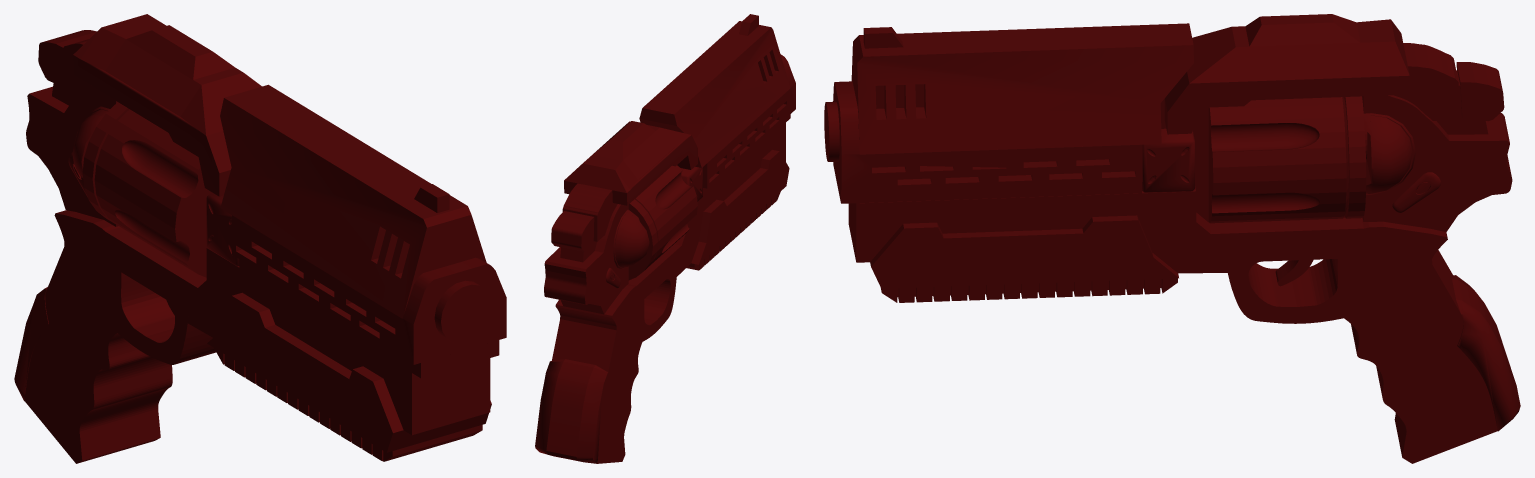
Rendered from pistola.obj.
The picture shows the model from 3 angles, left to right: view 1: azimuth 30°, elevation 25°; view 2: azimuth 150°, elevation 25°; view 3: azimuth 270°, elevation 25°; orthographic projection. The views are drawn at different scales.
Parts seen in each view (by area): view 1: Object010; view 2: Object010; view 3: Object010.
Part boxes in pixels (left/top/right/bottom): Object010: left=14, top=14, right=506, bottom=463; Object010: left=535, top=14, right=795, bottom=463; Object010: left=824, top=14, right=1520, bottom=463.
Size of the model in its own units: 1.39 by 3.93 by 5.73.
